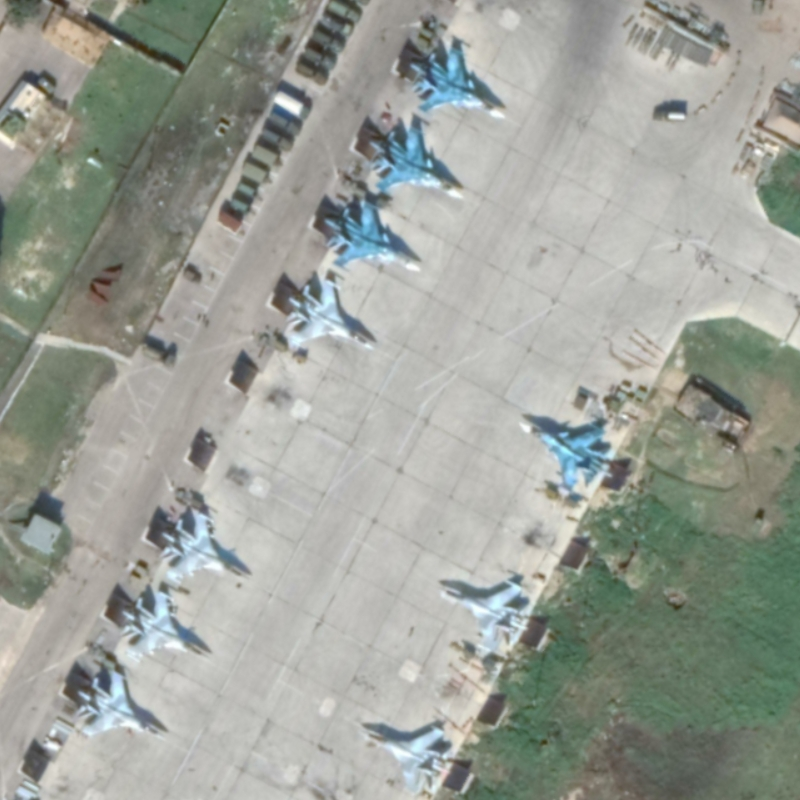A1: (436, 574, 535, 657), (71, 662, 169, 744), (117, 586, 214, 668), (154, 506, 247, 587), (281, 276, 375, 355), (356, 722, 456, 793)
A19: (513, 409, 623, 494), (409, 43, 517, 125), (365, 121, 469, 205), (319, 195, 424, 278)
